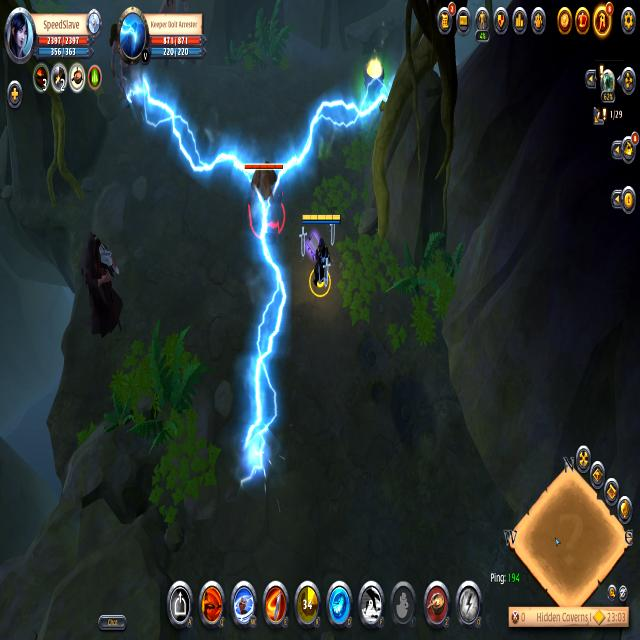fiber: (358, 55, 388, 113)
ore: (80, 223, 128, 343), (241, 154, 287, 236), (155, 0, 198, 72), (108, 20, 146, 98)
silver: (121, 65, 256, 187), (270, 69, 396, 199), (240, 190, 286, 489)
